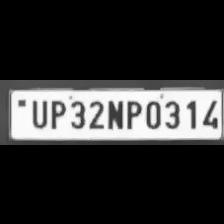0: (142, 97, 162, 128)
1: (180, 96, 198, 128)
2: (86, 96, 104, 130)
3: (66, 96, 86, 128), (162, 96, 182, 128)
4: (198, 96, 220, 128)
N: (105, 96, 123, 130)
P: (46, 97, 66, 128), (123, 96, 141, 130)
U: (28, 97, 48, 127)
